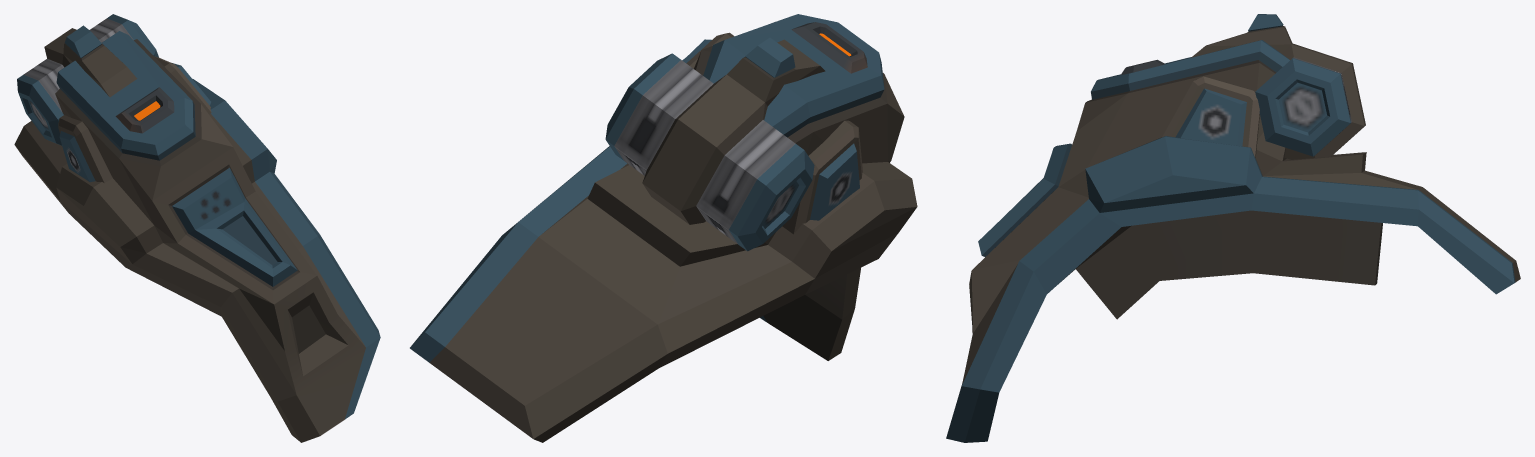
File: SM_Mech_Chest_01_Armor_Collar_01.fbx
The picture shows the model from 3 angles, left to right: view 1: azimuth 30°, elevation 25°; view 2: azimuth 150°, elevation 25°; view 3: azimuth 270°, elevation 25°; orthographic projection. The views are drawn at different scales.
Parts seen in each view (by area): view 1: SM_Mech_Chest_01_Armor_Collar_01; view 2: SM_Mech_Chest_01_Armor_Collar_01; view 3: SM_Mech_Chest_01_Armor_Collar_01.
Boxes of the visible parts, left/top/right/bottom form: SM_Mech_Chest_01_Armor_Collar_01: left=14, top=14, right=380, bottom=442; SM_Mech_Chest_01_Armor_Collar_01: left=410, top=14, right=917, bottom=442; SM_Mech_Chest_01_Armor_Collar_01: left=946, top=14, right=1520, bottom=442.
Size of the model in its own units: 55.2 by 84.68 by 116.
